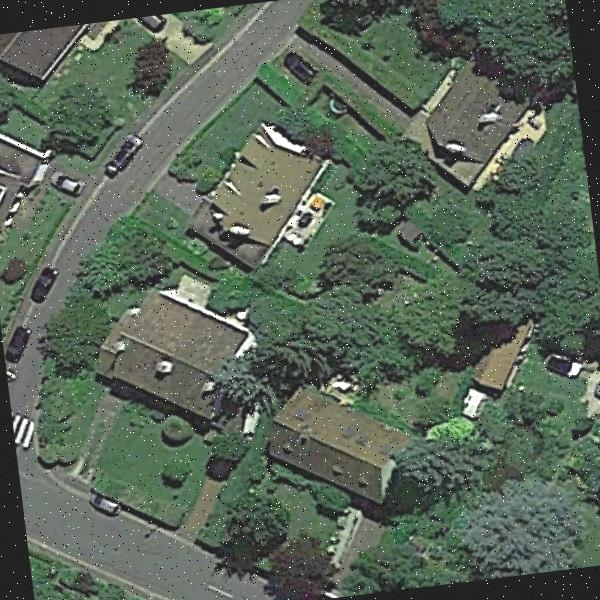Buildings: (97, 285, 239, 417), (208, 122, 311, 241), (278, 402, 409, 489), (423, 61, 530, 161), (0, 131, 57, 245), (0, 24, 89, 67), (475, 326, 530, 394)
